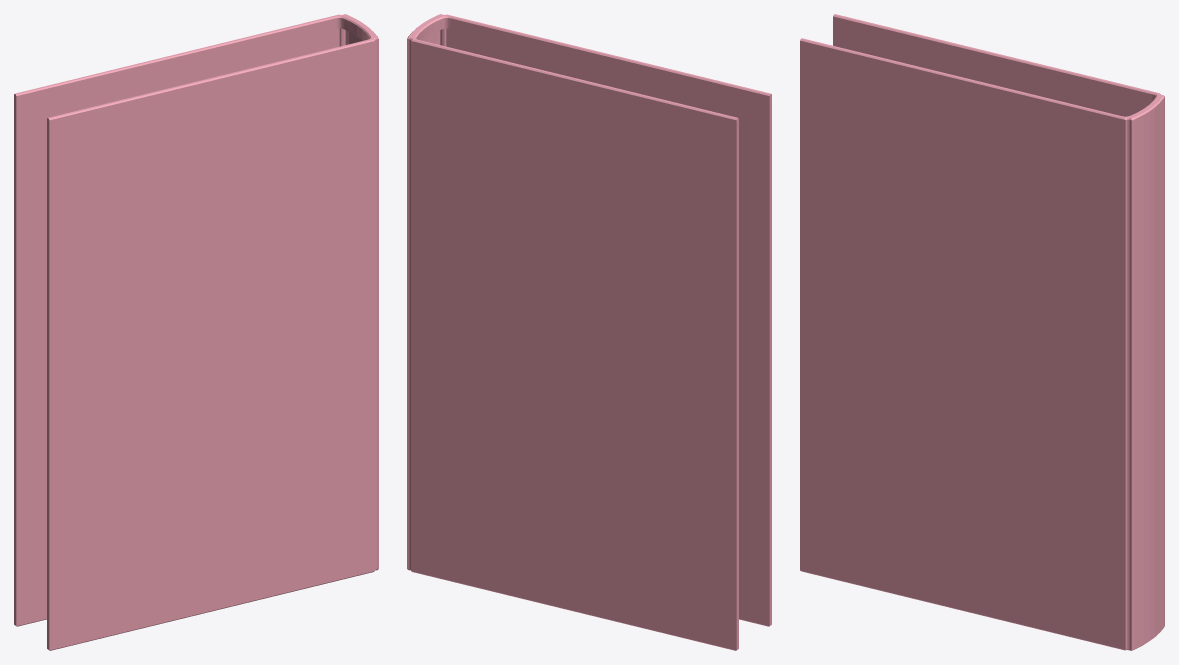
File: book_1.glb
The picture shows the model from 3 angles, left to right: view 1: azimuth 30°, elevation 25°; view 2: azimuth 150°, elevation 25°; view 3: azimuth 330°, elevation 25°; orthographic projection.
Parts seen in each view (by area): view 1: livre; view 2: livre; view 3: livre.
Boxes of the visible parts, x1=… form: livre: x1=14, y1=14, x2=378, y2=650; livre: x1=407, y1=14, x2=771, y2=650; livre: x1=800, y1=14, x2=1164, y2=650.
Bounding box in the file's own units: 5.97 × 9.08 × 1.09.
